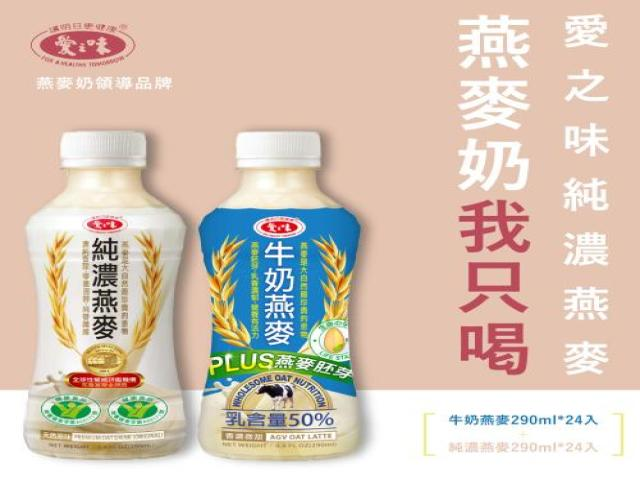bottle: (199, 132, 360, 459), (25, 131, 185, 458)
